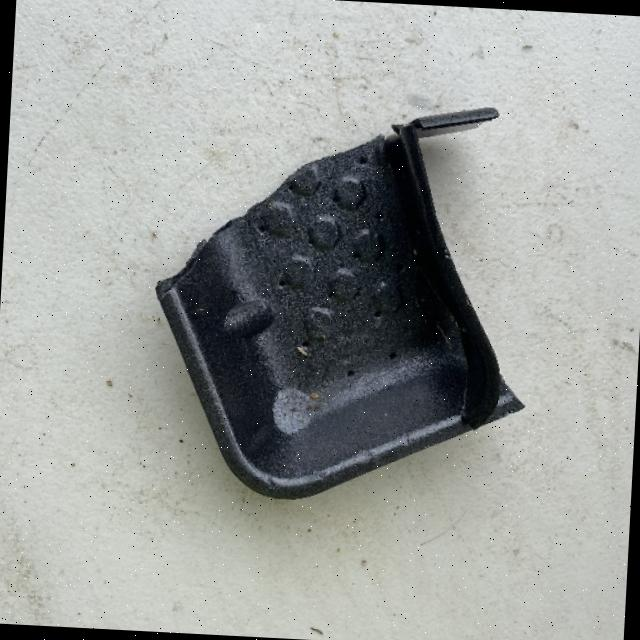styrofoam: (0, 0, 640, 640), (143, 86, 542, 512)
